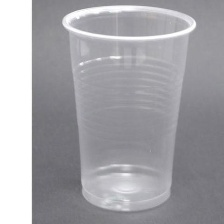glass: (56, 1, 199, 217)
